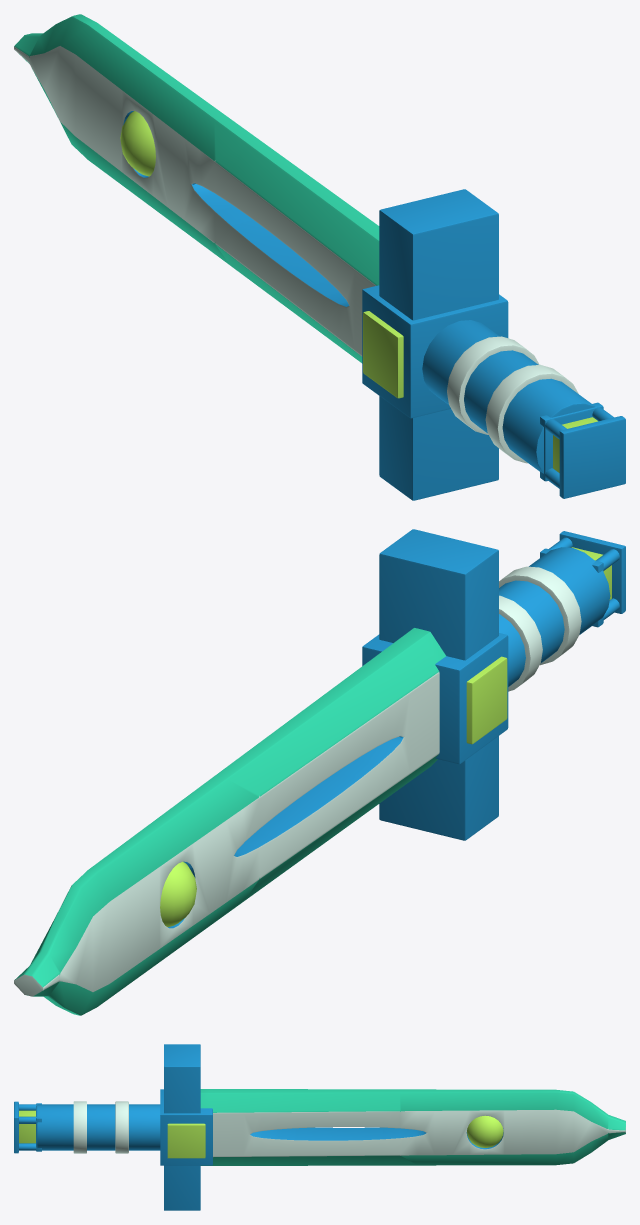
File: Sword_MarshlightLongsword.glb
3 views of the same model, one above another, from view 1: azimuth 30°, elevation 25°; view 2: azimuth 150°, elevation 25°; view 3: azimuth 270°, elevation 25° (orthographic). The views are drawn at different scales.
Visible parts, largest first — view 1: Sword_MarshlightLongsword; view 2: Sword_MarshlightLongsword; view 3: Sword_MarshlightLongsword.
Part boxes in pixels (x1,y1,x2,y2): Sword_MarshlightLongsword: (14,14,625,500); Sword_MarshlightLongsword: (14,529,625,1015); Sword_MarshlightLongsword: (14,1044,625,1210).
Bounding box in the file's own units: 0.112 × 0.26 × 1.
1 material, 1 textured.
